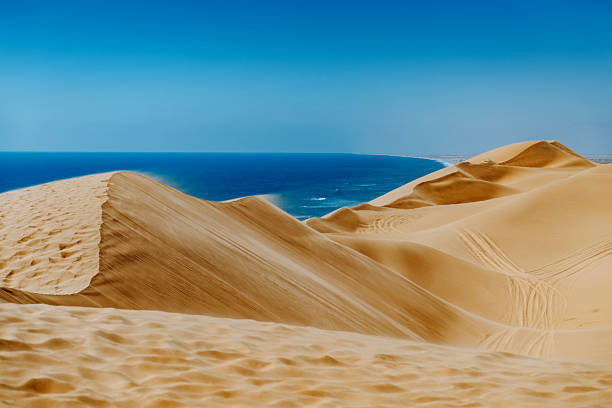human_footprint: (0, 311, 605, 407), (0, 177, 88, 282)
